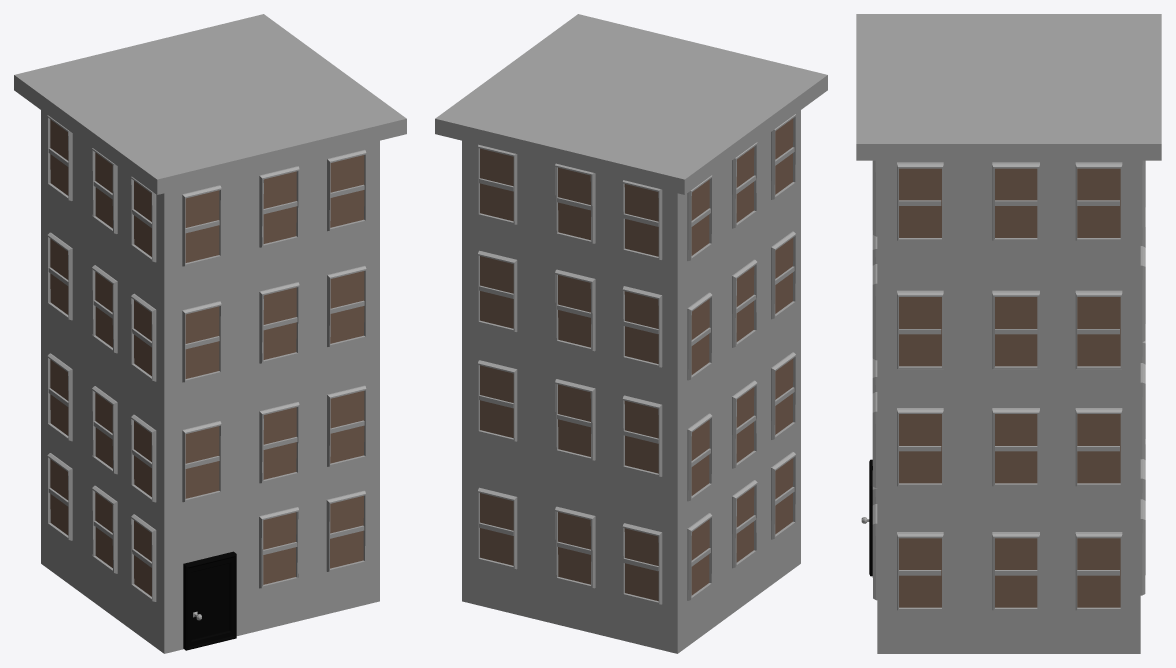
The model's file is GhettoApartment.fbx.
3 views of the same model, side by side, from view 1: azimuth 30°, elevation 25°; view 2: azimuth 150°, elevation 25°; view 3: azimuth 270°, elevation 25° (orthographic). The views are drawn at different scales.
Visible parts, largest first — view 1: pCube144, polySurface323, polySurface308, polySurface322, polySurface337, polySurface334, polySurface333, polySurface335, polySurface336, pSphere13; view 2: pCube144, polySurface331, polySurface329, polySurface332, polySurface330, polySurface334, polySurface333, polySurface335, polySurface336; view 3: pCube144, polySurface327, polySurface328, polySurface326, polySurface325, polySurface332, polySurface323, polySurface322, polySurface331, polySurface329, polySurface337, pSphere13.
Part boxes in pixels (x1,y1,x2,y2): pCube144: (14,14,406,653); polySurface323: (182,385,366,502); polySurface308: (182,150,366,266); polySurface322: (182,266,366,382); polySurface337: (259,490,365,588); polySurface334: (47,353,156,502); polySurface333: (47,453,156,601); polySurface335: (47,232,156,381); polySurface336: (47,115,156,262); pSphere13: (183,551,236,650); pCube144: (435,14,827,653); polySurface331: (478,360,662,476); polySurface329: (478,250,662,367); polySurface332: (478,487,662,604); polySurface330: (478,144,662,259); polySurface334: (687,352,795,501); polySurface333: (687,452,795,600); polySurface335: (687,231,795,380); polySurface336: (687,114,795,260); pCube144: (856,14,1161,653); polySurface327: (897,290,1122,369); polySurface328: (897,162,1122,240); polySurface326: (897,408,1122,486); polySurface325: (897,532,1122,610); polySurface332: (1140,439,1145,595); polySurface323: (872,338,877,488); polySurface322: (872,214,877,360); polySurface331: (1140,322,1145,459); polySurface329: (1140,207,1145,342); polySurface337: (872,470,877,600); pSphere13: (861,459,872,576).
Size of the model in its own units: 30.67 by 57.02 by 30.43.
